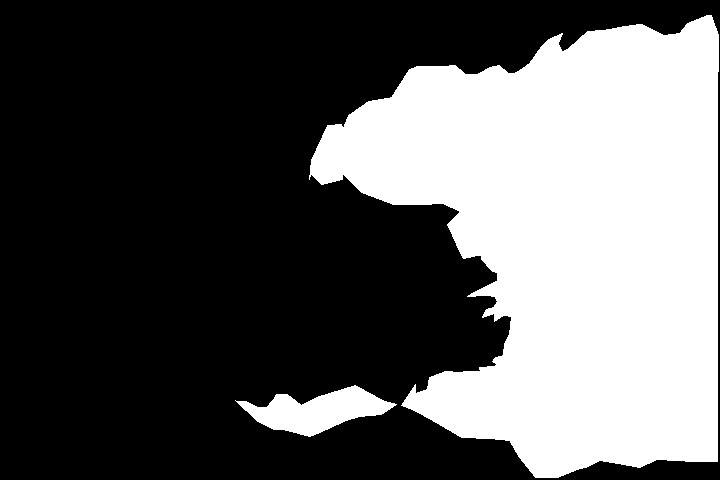Fire: (345, 6, 717, 476)
